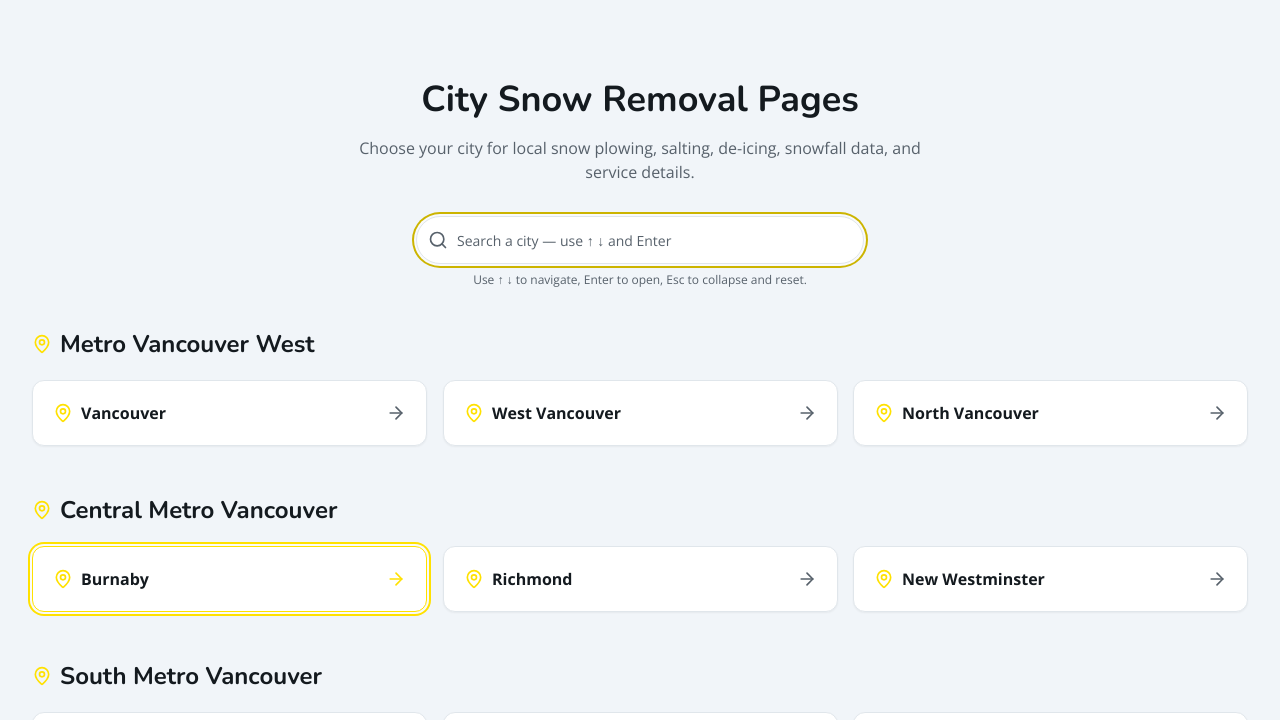
ServiceAreas restore synchronization › rapid successive restores always sync to the LATEST restoreEvent (no desync)
The width and height of the screenshot is (1280, 720).
Later steps or results of the test are not shown.
Note: --- Restore #1: clear-from-filter for Burnaby ---
In the dropdown: (640, 240) [416, 216, 864, 264], type "abbotsford"
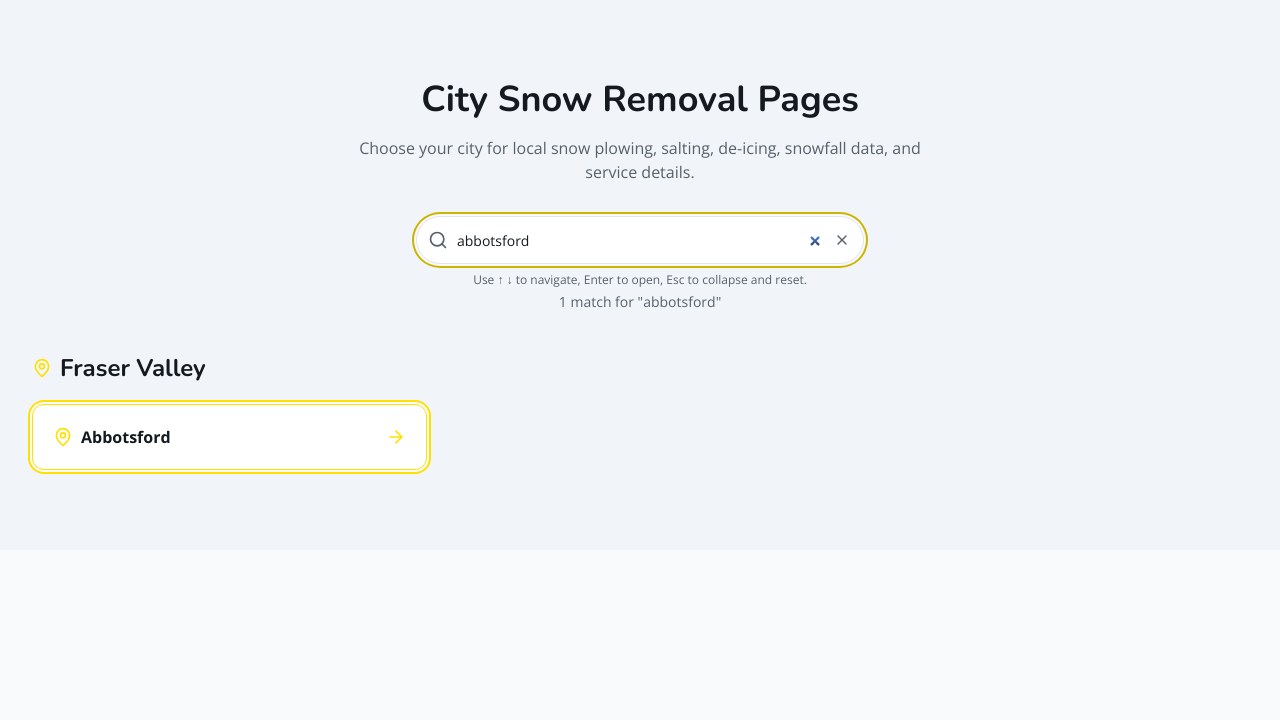
Expected: the option with id "city-opt-burnaby" is gone
Clear the dropdown: (640, 240) [416, 216, 864, 264]
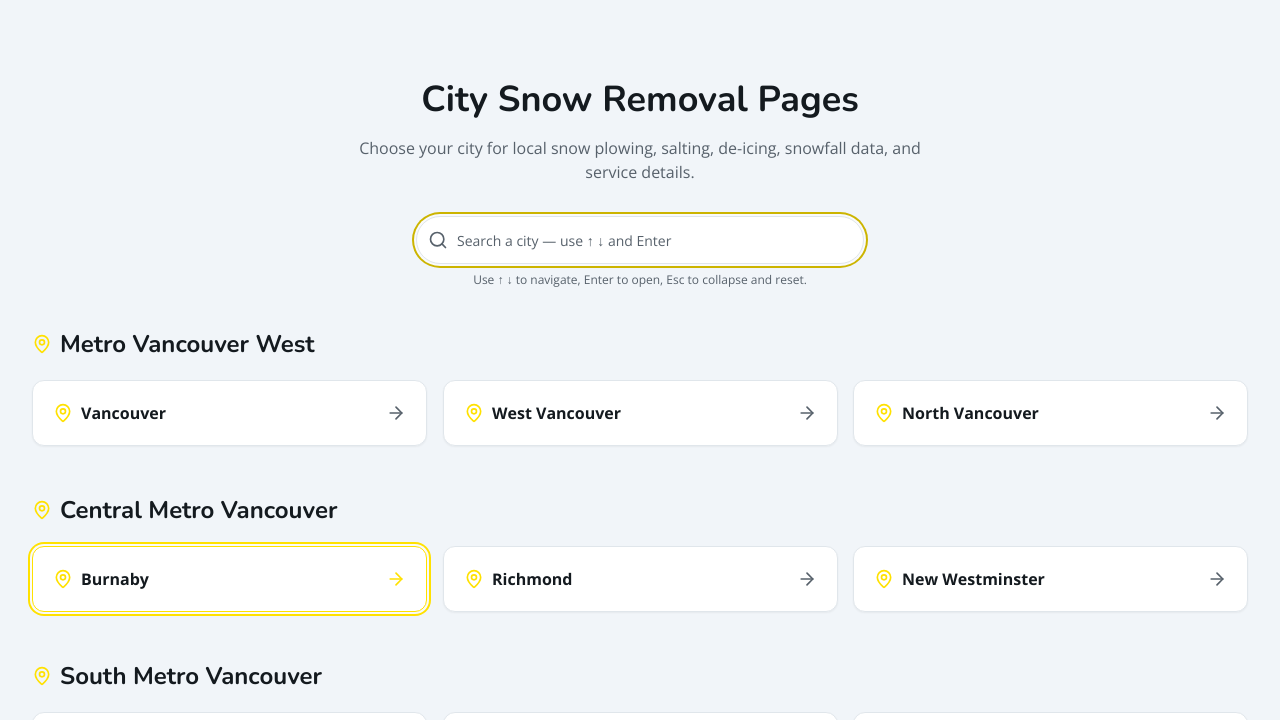
In the dropdown: (640, 240) [416, 216, 864, 264], type "burnaby"
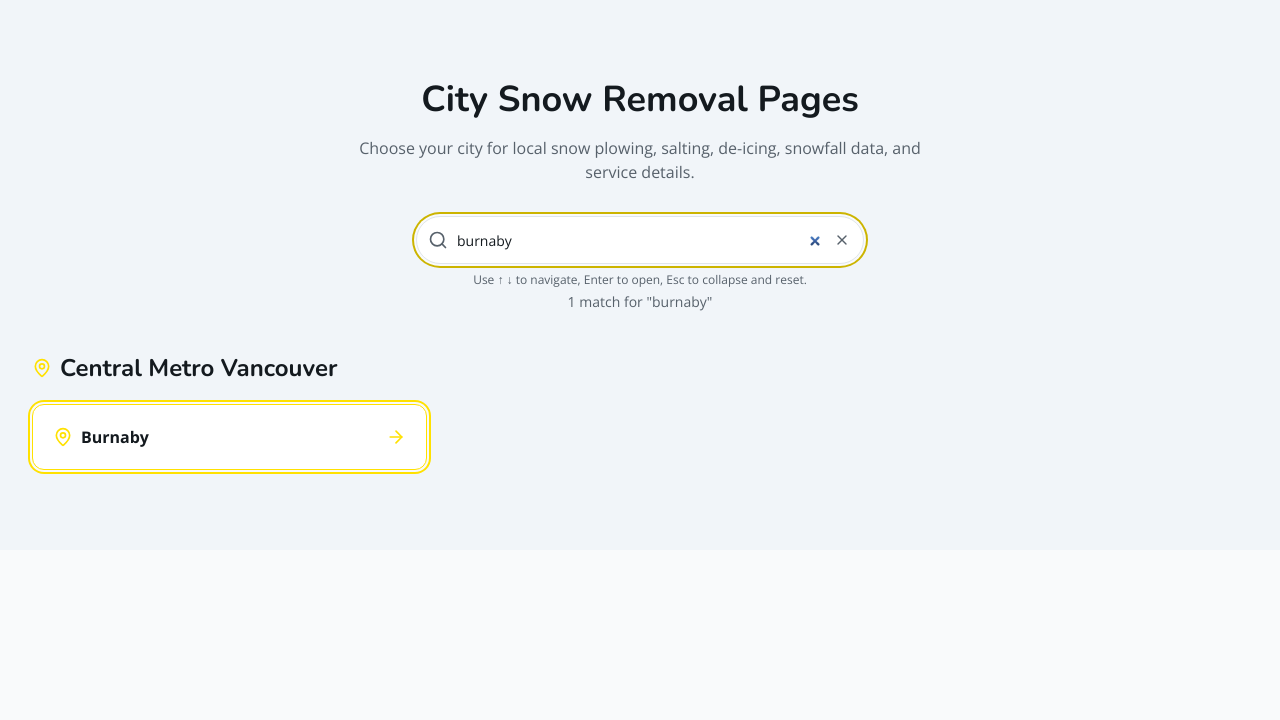
Expected: the option with id "city-opt-burnaby" is shown, [32, 404, 427, 470]
